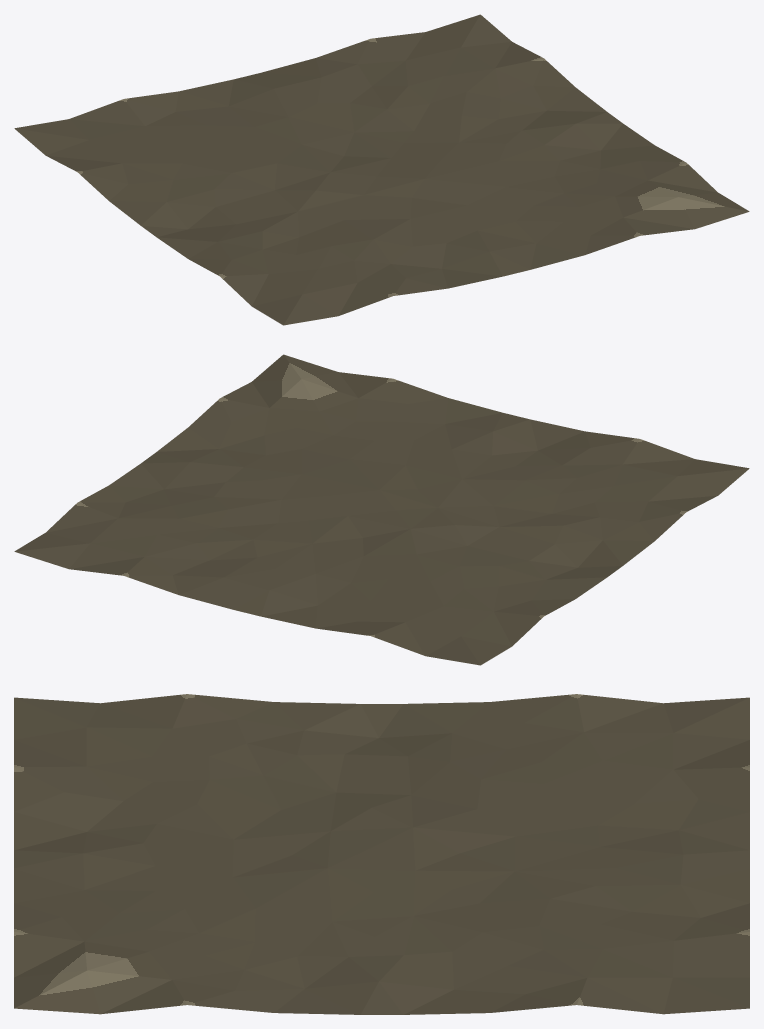
File: Water_02.fbx
The picture shows the model from 3 angles, top to bottom: view 1: azimuth 30°, elevation 25°; view 2: azimuth 150°, elevation 25°; view 3: azimuth 270°, elevation 25°; orthographic projection. The views are drawn at different scales.
Parts seen in each view (by area): view 1: Water_02; view 2: Water_02; view 3: Water_02.
Part boxes in pixels (x1,y1,x2,y2): Water_02: (14, 14, 749, 325); Water_02: (14, 354, 749, 665); Water_02: (14, 694, 749, 1014).
Size of the model in its own units: 100 by 3.47 by 100.
1 material, 1 textured.
